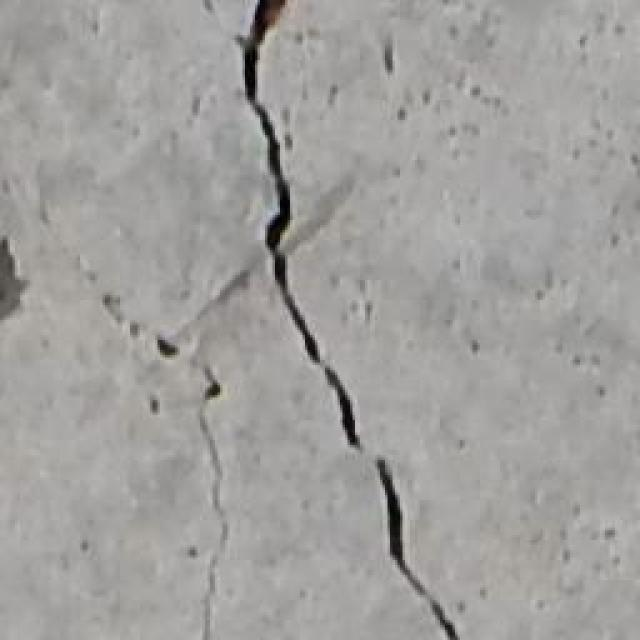concrete-crack: (243, 4, 362, 453), (380, 467, 465, 640), (200, 368, 228, 640)
